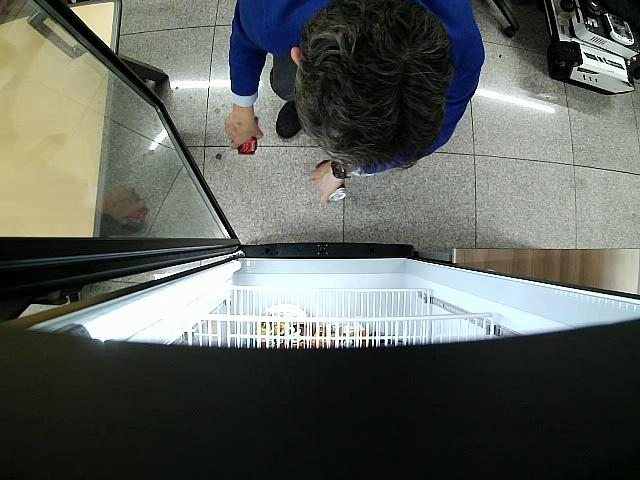00_hand: (224, 107, 263, 149), (309, 160, 343, 206)
11_cocaColaZero: (316, 160, 346, 202), (238, 116, 258, 155)
